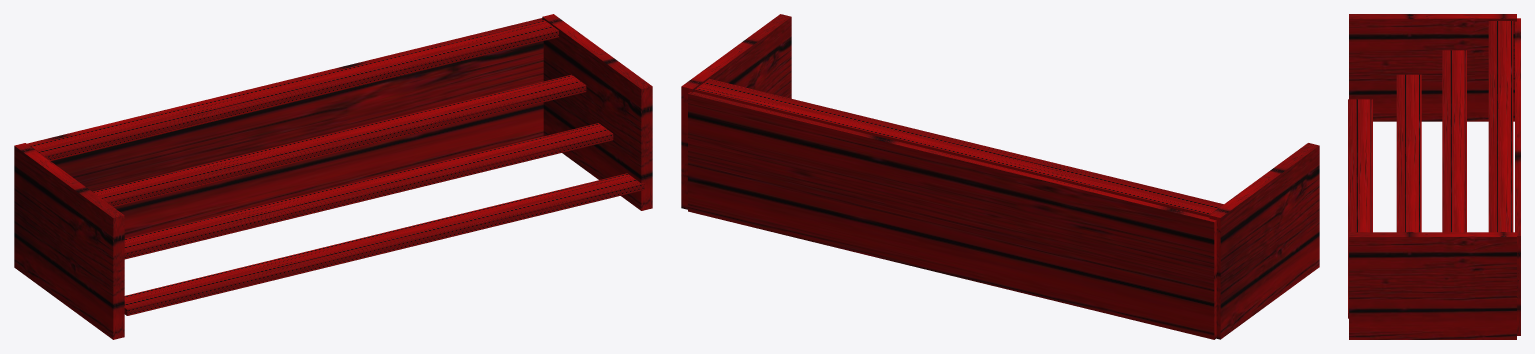
File: Grada.obj
The picture shows the model from 3 angles, left to right: view 1: azimuth 30°, elevation 25°; view 2: azimuth 150°, elevation 25°; view 3: azimuth 270°, elevation 25°; orthographic projection. The views are drawn at different scales.
Parts seen in each view (by area): view 1: pCube2; view 2: pCube2; view 3: pCube2.
Boxes of the visible parts, x1=… form: pCube2: x1=14, y1=14, x2=652, y2=339; pCube2: x1=681, y1=14, x2=1319, y2=339; pCube2: x1=1348, y1=14, x2=1520, y2=339.
Size of the model in its own units: 46.76 by 10.09 by 15.32.
1 material, 1 textured.
